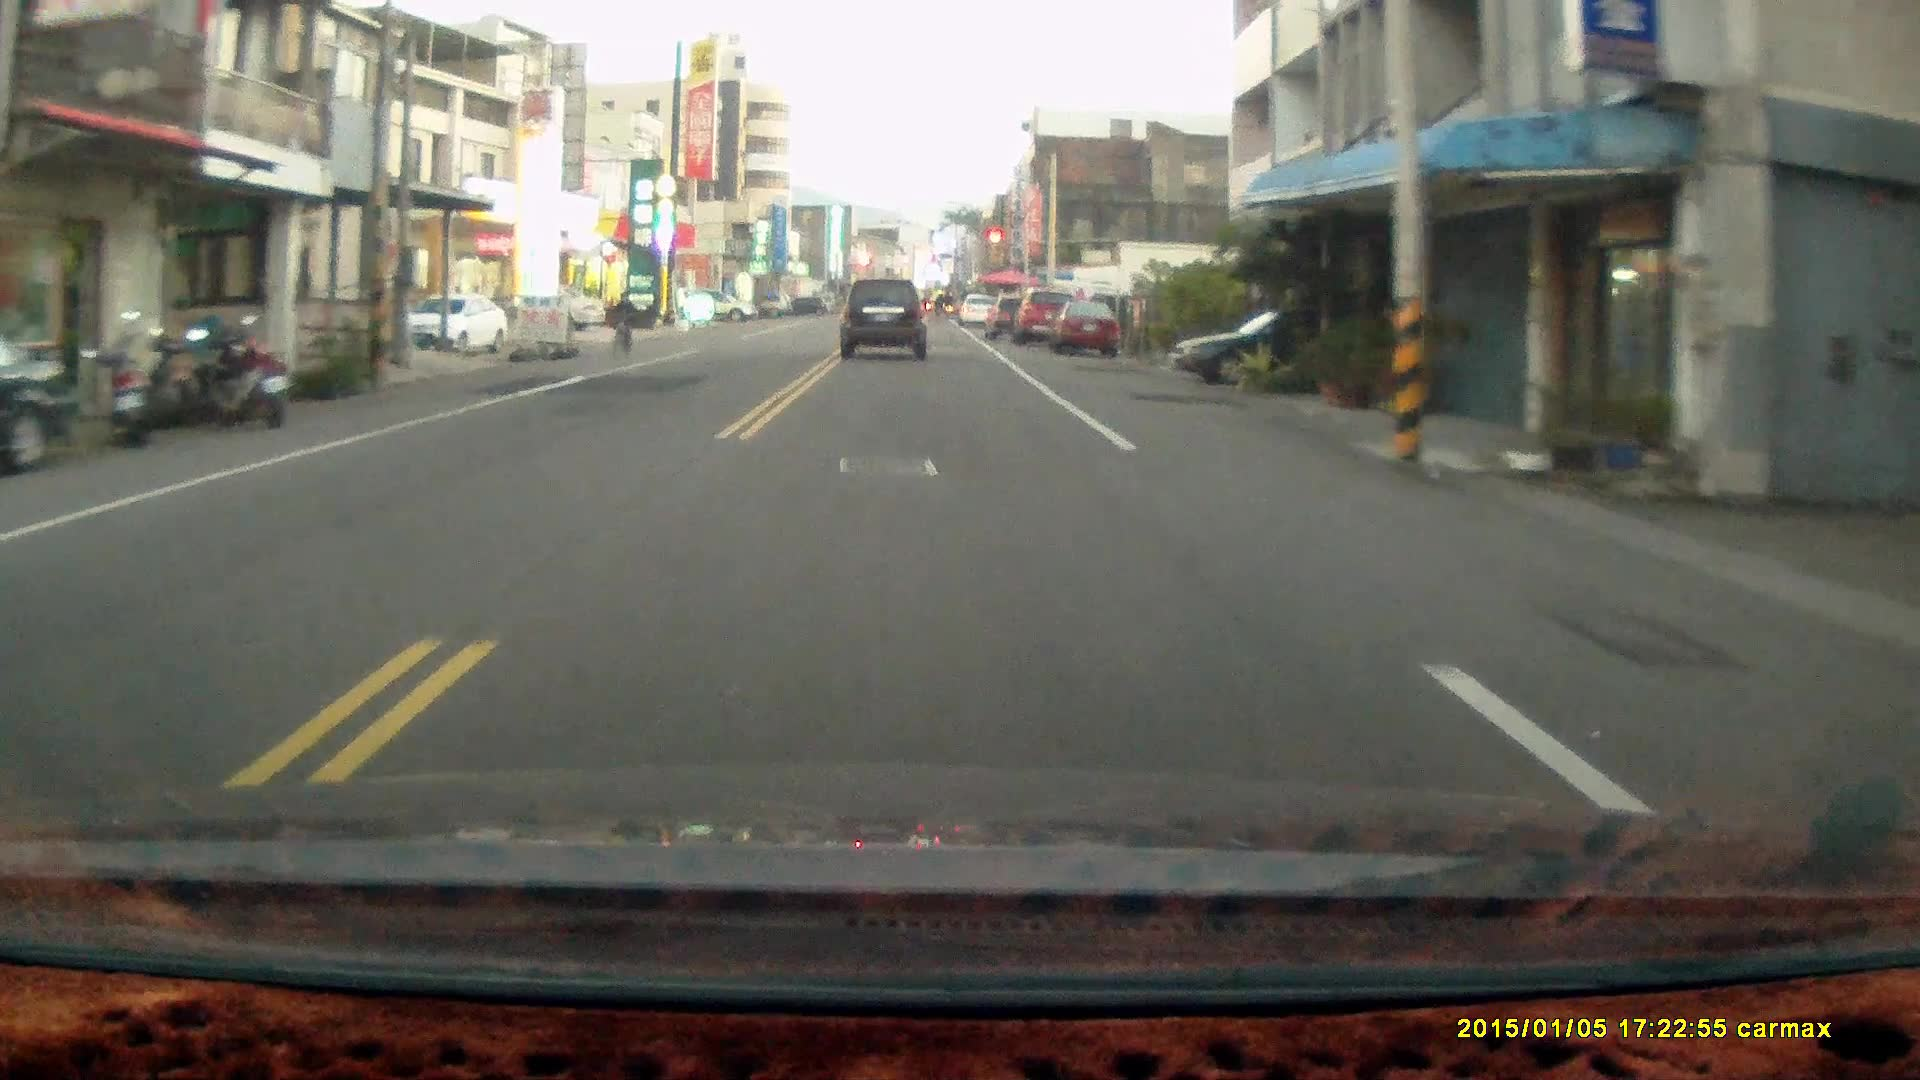rider: (610, 287, 636, 360)
vehicle: (1, 299, 77, 481), (1169, 317, 1351, 381), (838, 274, 935, 362), (407, 290, 507, 351), (1047, 297, 1124, 359)
